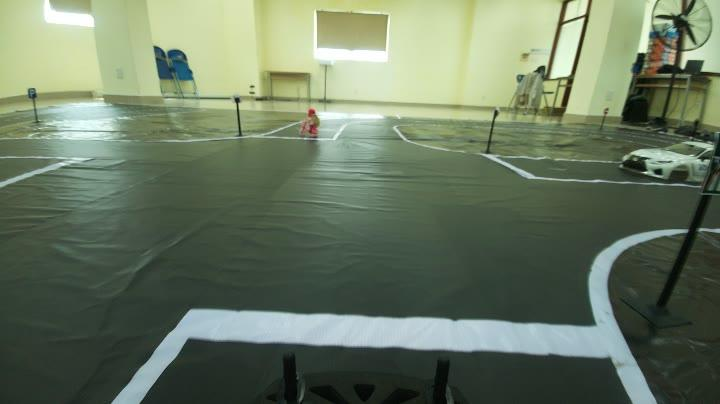highway_exit: (701, 136, 720, 196)
